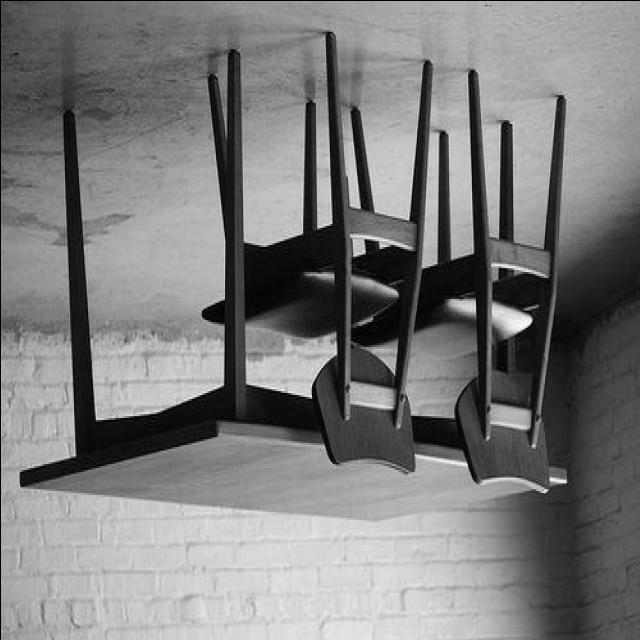chair: (346, 63, 588, 494), (206, 38, 437, 480)
table: (20, 44, 568, 525)
